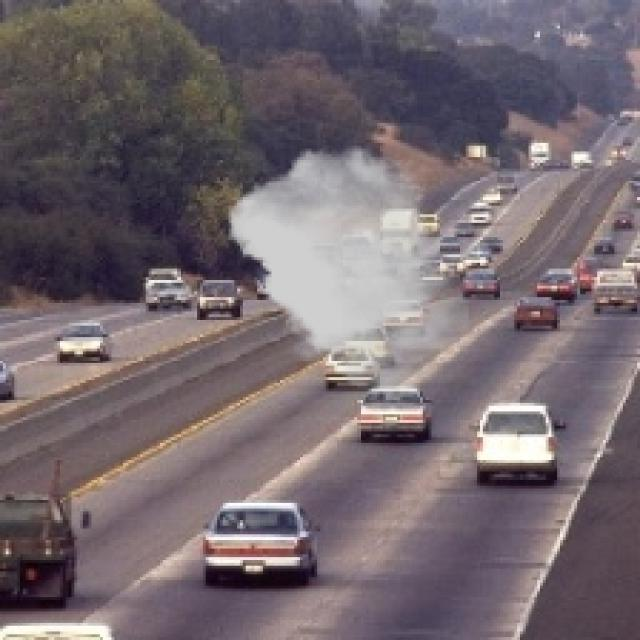smoke: (228, 146, 468, 388)
